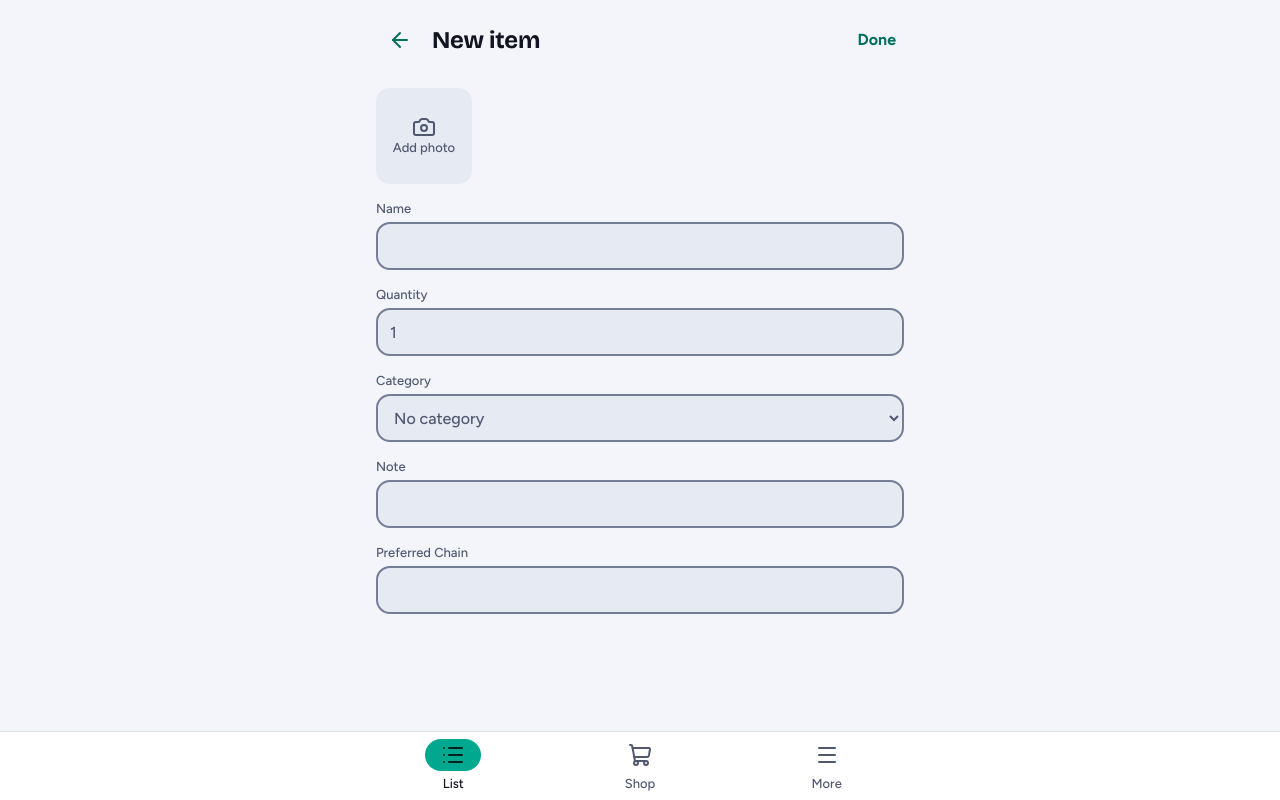
Test case: New item page saving › saves the item onto the list with its fields and category, and returns to List
Type "Eggs" into the field labelled "Name" at (640, 246), box [376,222,904,270]
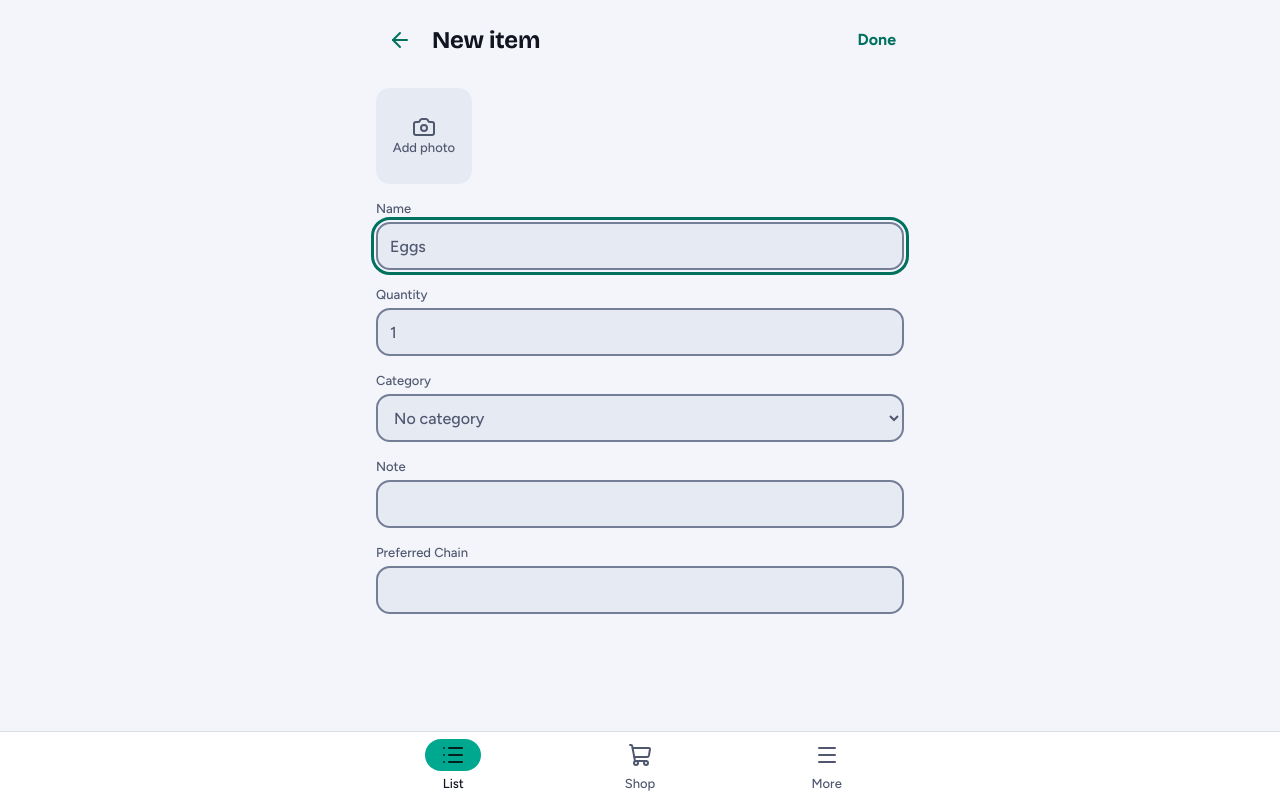
Replace the text in the field labelled "Quantity" with "12" at (640, 332), box [376,308,904,356]
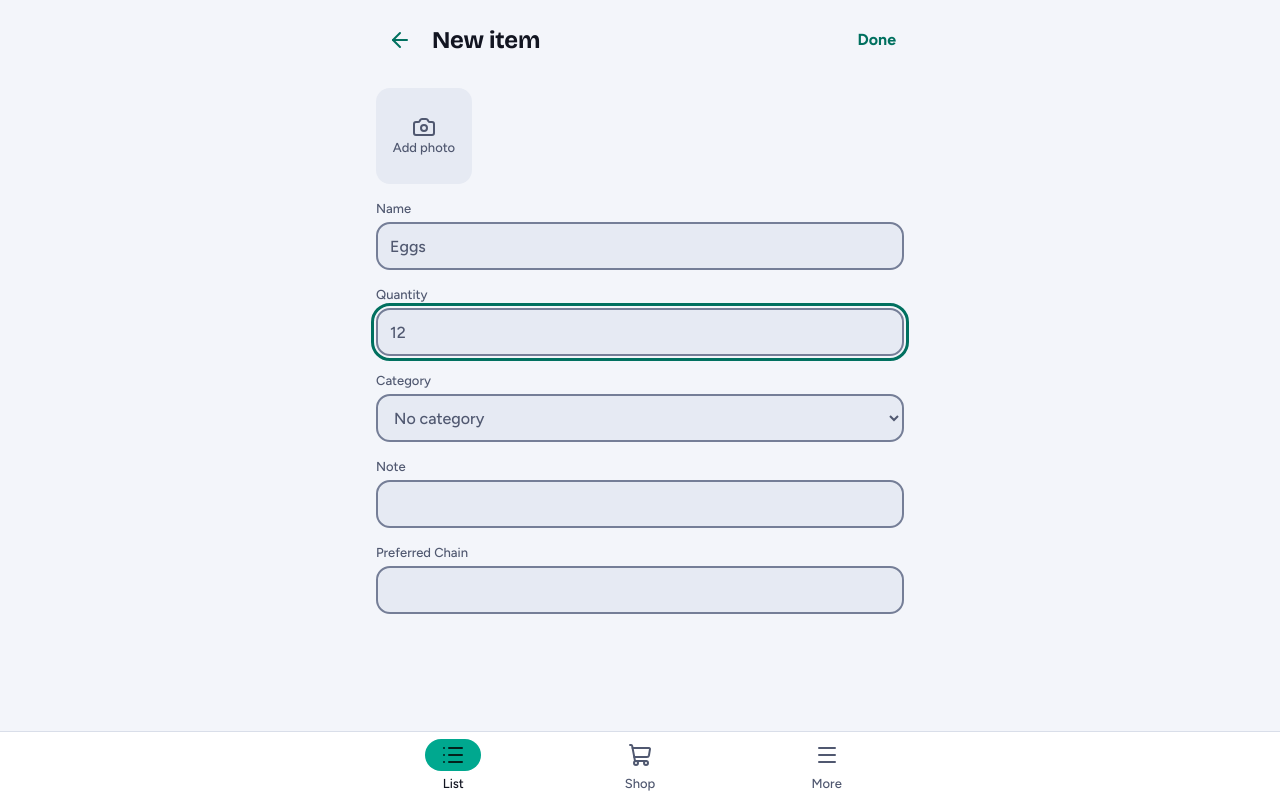
Type "Free range" into the field labelled "Note" at (640, 504), box [376,480,904,528]
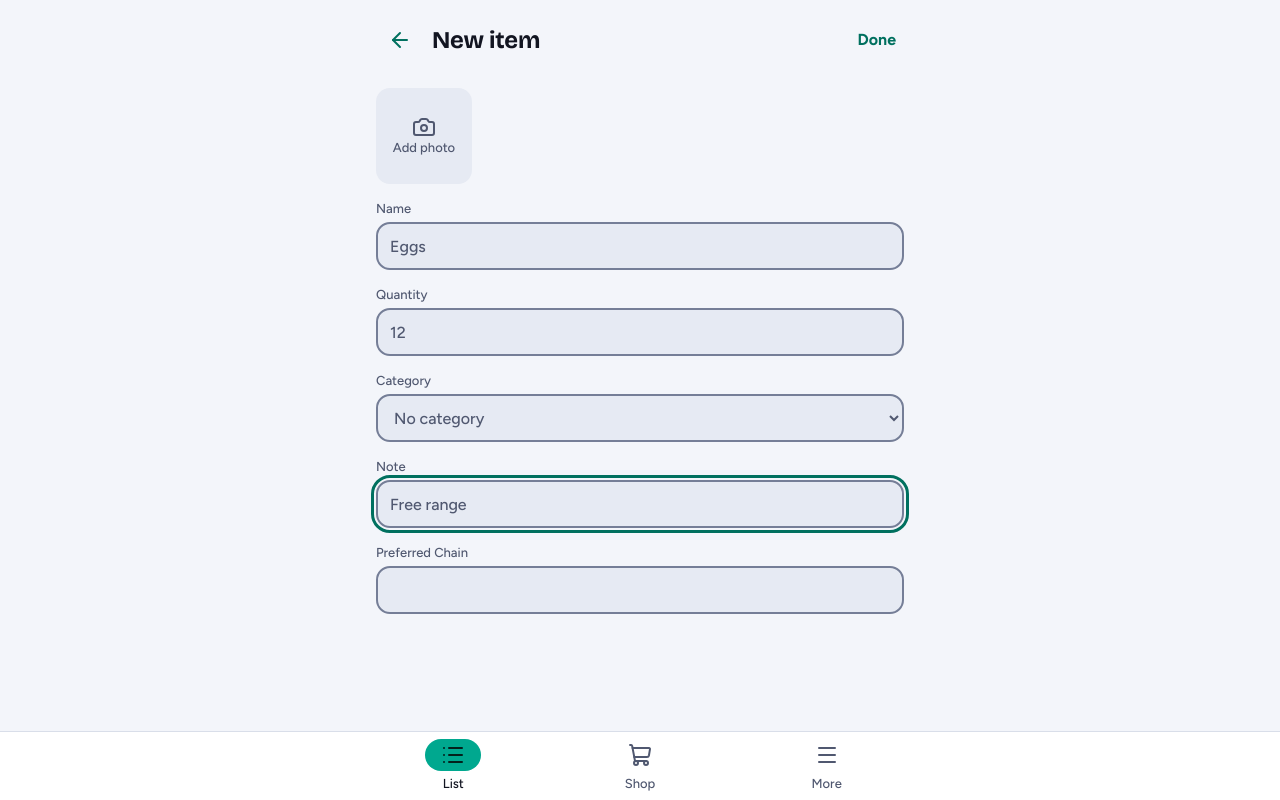
Select "Dairy" in the dropdown labelled "Category" at (640, 418), box [376,394,904,442]
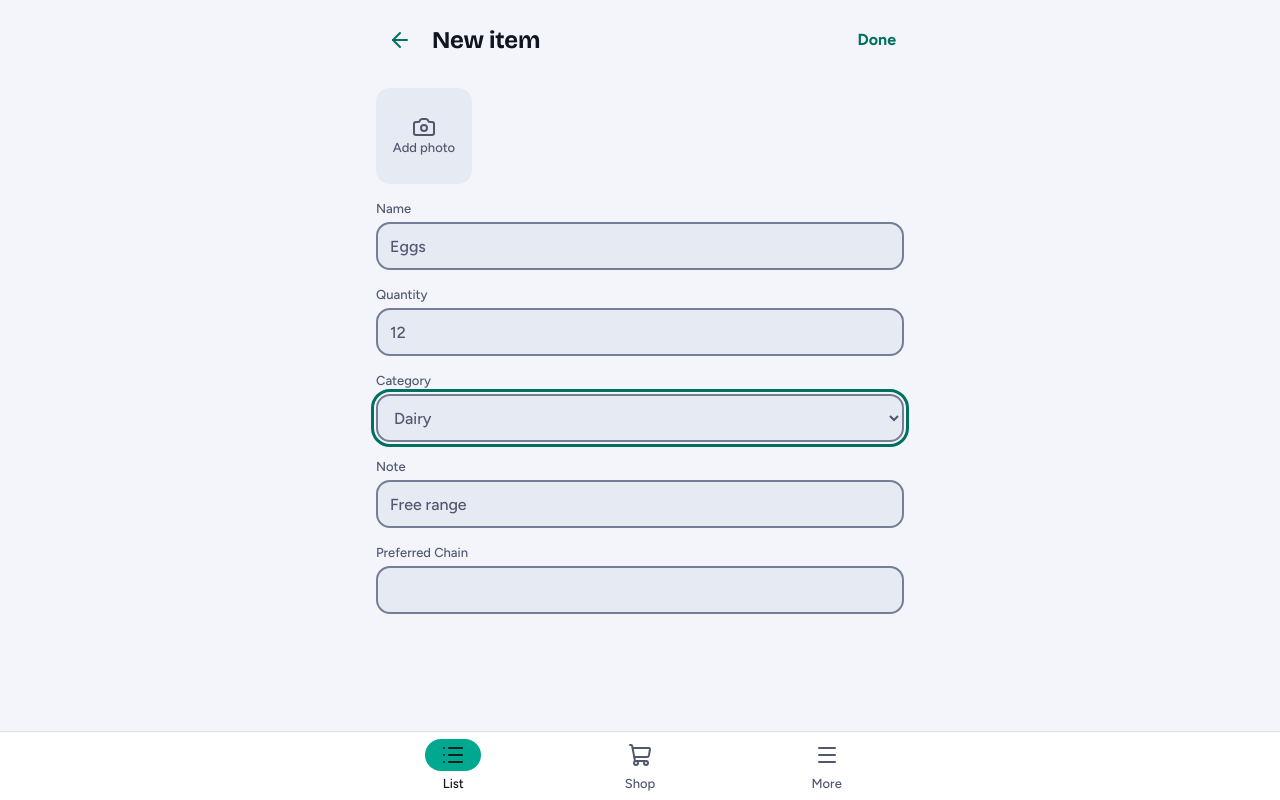
Click the button "Done" at (877, 40), box [850,16,904,64]
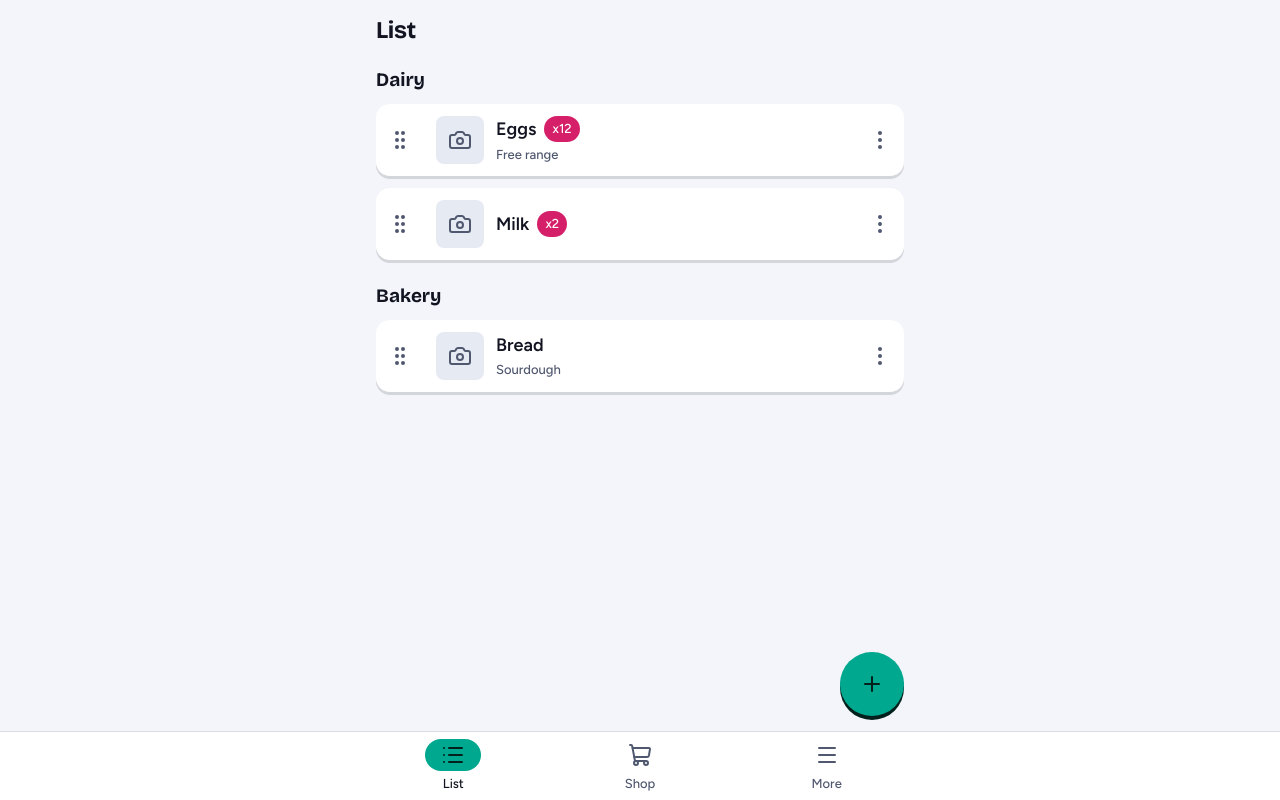
Check: the text "Eggs" is shown, box [496,117,536,141]
